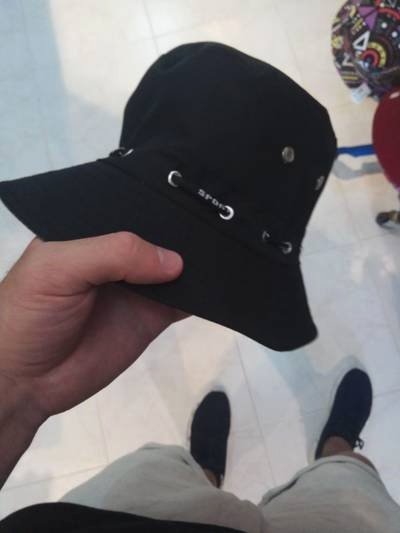Hat: (9, 29, 338, 369)
